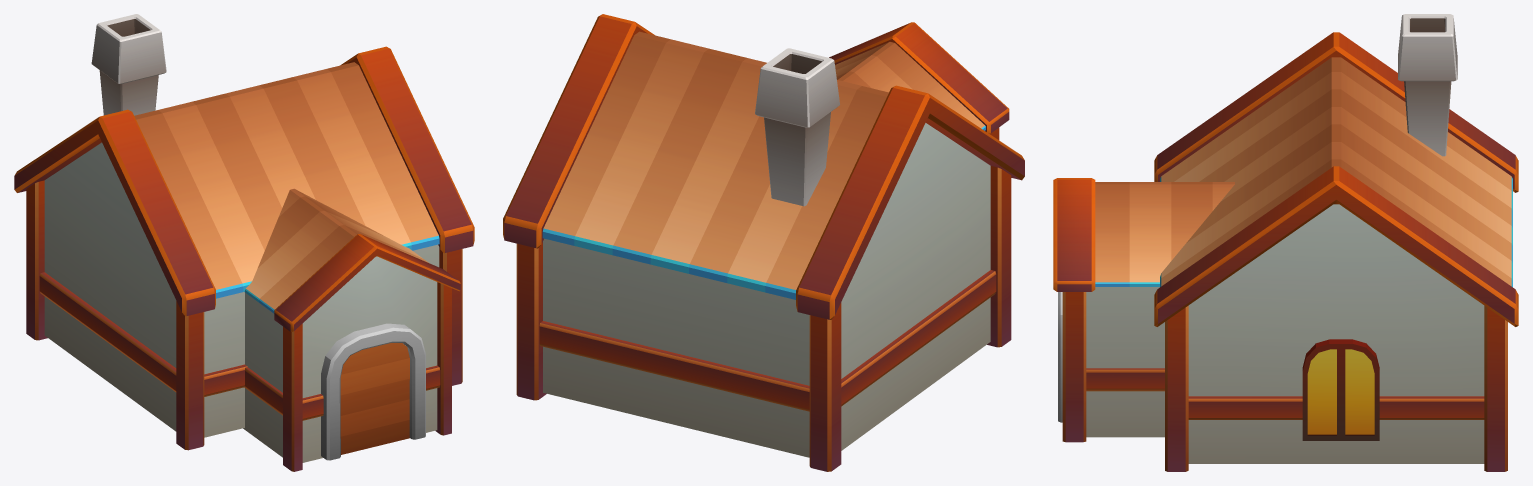
Rendered from Silver_House_2.fbx.
3 renders of one model, left to right at view 1: azimuth 30°, elevation 25°; view 2: azimuth 150°, elevation 25°; view 3: azimuth 270°, elevation 25°, orthographic. The views are drawn at different scales.
Parts seen in each view (by area): view 1: Silver_House_Lv2; view 2: Silver_House_Lv2; view 3: Silver_House_Lv2.
Boxes of the visible parts, <box> form: Silver_House_Lv2: <box>14,14,474,471</box>; Silver_House_Lv2: <box>503,14,1024,471</box>; Silver_House_Lv2: <box>1053,14,1518,471</box>.
Size of the model in its own units: 0.8016 by 0.8327 by 1.04.
1 material, 1 textured.
